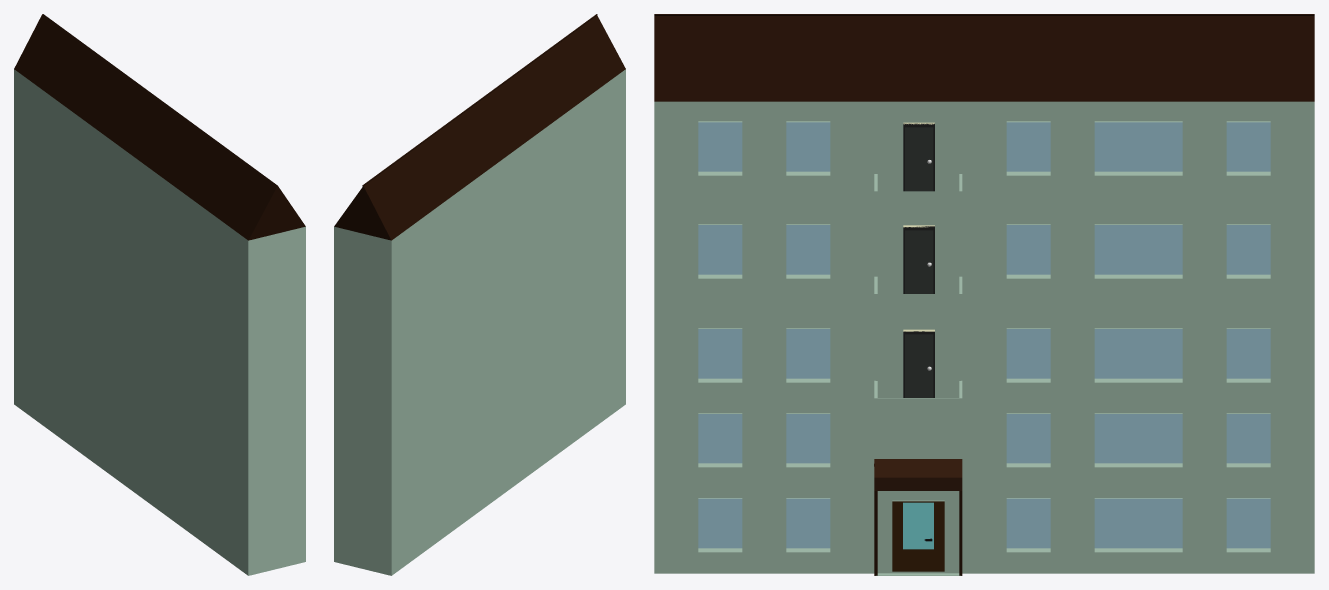
The model's file is dom2.fbx.
3 views of the same model, side by side, from view 1: azimuth 30°, elevation 25°; view 2: azimuth 150°, elevation 25°; view 3: azimuth 270°, elevation 25° (orthographic). The views are drawn at different scales.
Parts seen in each view (by area): view 1: Cube; view 2: Cube; view 3: Cube, Cube.001.
Part boxes in pixels (x1,y1,x2,y2): Cube: (14, 14, 305, 575); Cube: (334, 14, 625, 575); Cube: (654, 14, 1314, 575); Cube.001: (903, 122, 934, 397).
Bounding box in the file's own units: 289 × 1272 × 1411.
